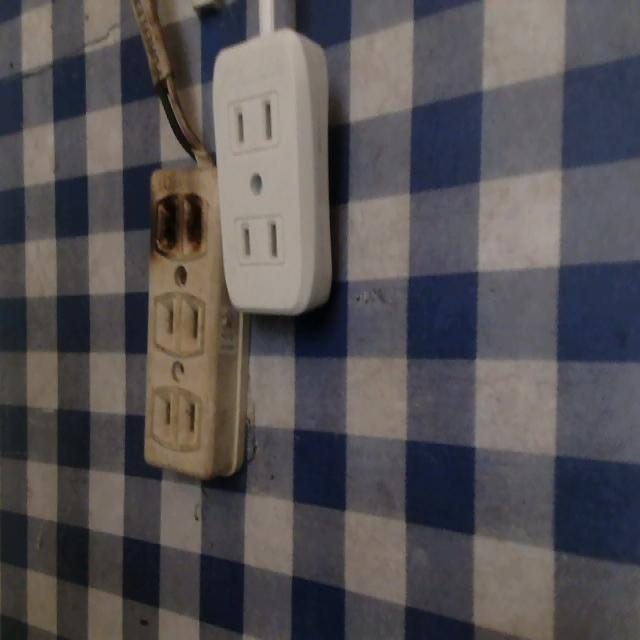-: (150, 180, 215, 264)
